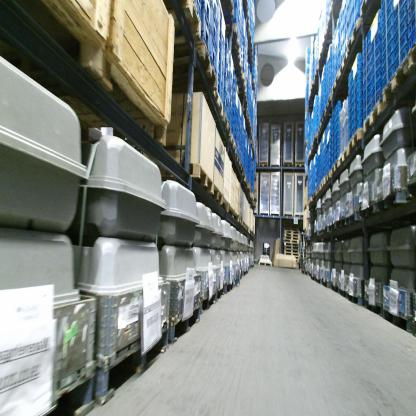pallet: (93, 318, 171, 403), (27, 361, 99, 413), (168, 41, 221, 92), (151, 159, 214, 194), (167, 301, 204, 353), (362, 100, 412, 133), (165, 2, 205, 41), (346, 17, 380, 55), (382, 59, 408, 103), (307, 81, 318, 160), (377, 189, 410, 214), (381, 306, 412, 332), (197, 91, 225, 118), (339, 50, 367, 77), (348, 126, 369, 155), (324, 92, 349, 113), (223, 23, 239, 54), (197, 289, 216, 315), (212, 113, 232, 137), (359, 200, 379, 221), (358, 0, 381, 18), (363, 297, 383, 317), (219, 0, 234, 26), (332, 73, 352, 92), (406, 41, 415, 73), (211, 185, 223, 207), (348, 291, 364, 307), (335, 285, 350, 302), (213, 282, 224, 304), (234, 73, 246, 93), (226, 131, 236, 155), (345, 211, 361, 226), (339, 146, 349, 169), (231, 52, 243, 71), (222, 278, 234, 297), (321, 111, 336, 125), (333, 217, 347, 232), (320, 275, 331, 292), (318, 122, 330, 136), (407, 177, 415, 198), (330, 162, 339, 178), (238, 160, 245, 178), (239, 93, 248, 106), (330, 281, 339, 293), (311, 133, 320, 145), (243, 107, 251, 120), (234, 149, 240, 166), (308, 92, 317, 103), (259, 260, 273, 267), (284, 234, 300, 240), (326, 172, 333, 185), (326, 224, 333, 237), (259, 161, 268, 171), (310, 143, 319, 152), (315, 274, 322, 285), (311, 191, 316, 206), (283, 223, 298, 228), (307, 196, 313, 208), (245, 121, 252, 131), (284, 229, 301, 233), (283, 239, 299, 243), (284, 245, 300, 249), (284, 252, 300, 256), (284, 162, 294, 168), (248, 193, 255, 201), (316, 186, 321, 197), (241, 175, 246, 186), (311, 270, 316, 281), (234, 278, 239, 289), (294, 162, 305, 167), (321, 178, 325, 191), (238, 216, 243, 226), (284, 233, 300, 236), (250, 82, 256, 90), (314, 229, 319, 238), (284, 242, 299, 245), (284, 249, 299, 252), (322, 227, 327, 235), (307, 268, 311, 278), (301, 270, 307, 276), (318, 229, 322, 237), (283, 228, 298, 230), (247, 182, 250, 191), (296, 259, 300, 264), (296, 256, 299, 258)
small_load_carrier: (391, 49, 409, 74), (393, 36, 408, 61), (393, 21, 407, 47), (381, 4, 393, 33), (392, 0, 407, 23), (381, 41, 394, 67), (382, 16, 395, 42), (381, 56, 394, 79), (210, 7, 218, 44), (370, 35, 382, 59), (397, 1, 408, 27), (369, 70, 381, 93), (369, 82, 382, 103), (382, 29, 393, 53), (370, 59, 382, 81), (381, 69, 393, 90), (202, 1, 211, 29), (210, 34, 217, 70), (370, 46, 380, 71), (202, 20, 210, 51), (372, 10, 382, 34), (370, 25, 380, 47), (407, 27, 416, 51), (216, 21, 225, 45), (363, 101, 373, 121), (381, 1, 392, 19), (372, 93, 383, 111), (217, 66, 225, 90), (363, 27, 372, 48), (407, 16, 415, 38), (217, 53, 225, 75), (194, 0, 202, 21), (211, 0, 219, 19), (409, 1, 416, 22), (217, 81, 224, 102), (363, 75, 371, 91), (363, 63, 371, 79), (363, 54, 371, 70), (363, 86, 372, 100), (362, 45, 371, 59), (219, 41, 225, 61), (407, 0, 415, 12)
